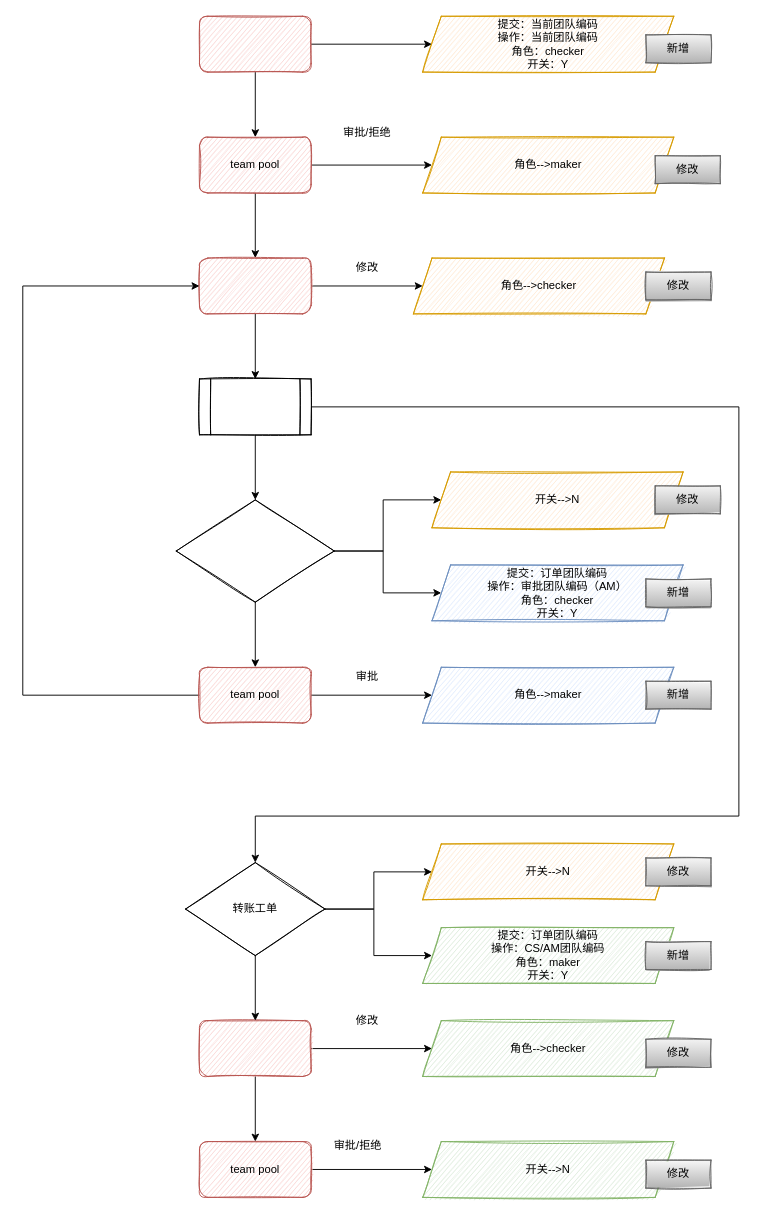
Some shapes in this 763 by 1214 pixel diagram are drawn without their labels. The shapes that lost their labels are listed below. From the top down, each one's centre as x and y in pixels, then its label:
the point at 255,43: submision
the point at 255,285: pending list
the point at 255,406: Job
the point at 254,550: Ark Ticket Card Issue Hold Fund Fund Account
the point at 255,1048: Management List
